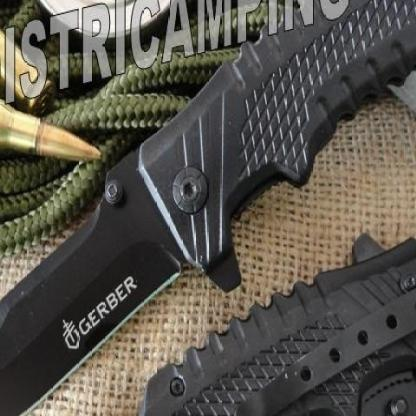knife: (0, 157, 193, 415)
